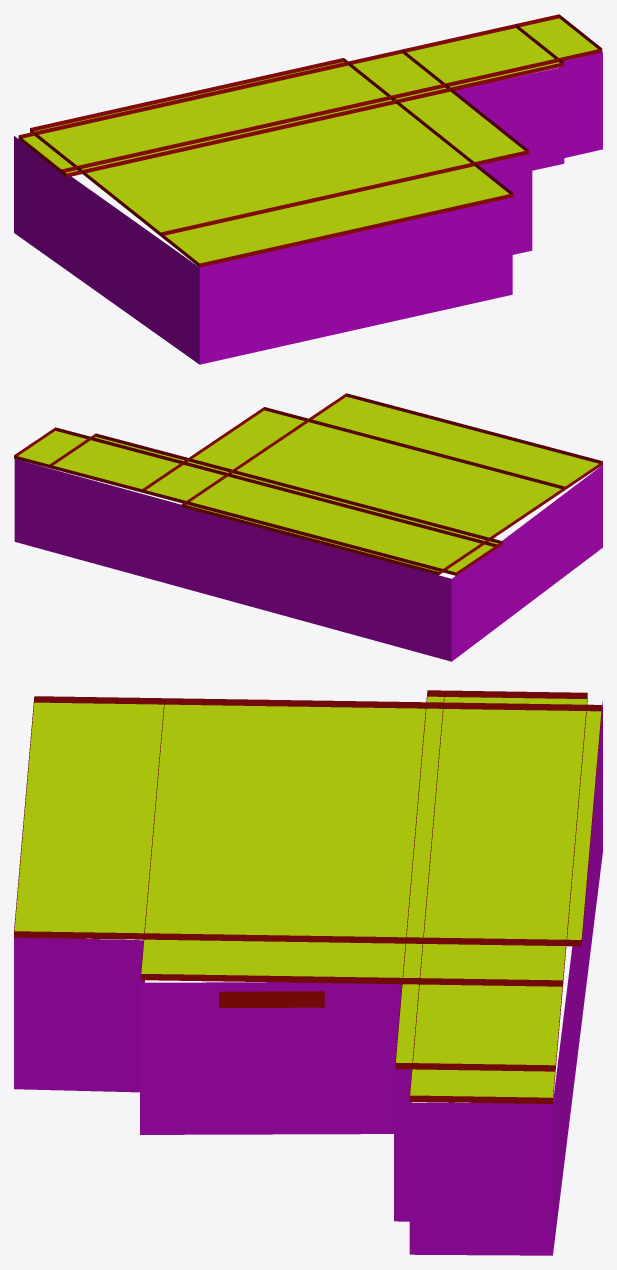
File: niv_64.glb
3 views of the same model, one above another, from view 1: azimuth 30°, elevation 25°; view 2: azimuth 150°, elevation 25°; view 3: azimuth 270°, elevation 25° (orthographic). The views are drawn at different scales.
Parts seen in each view (by area): view 1: niv_64; view 2: niv_64; view 3: niv_64.
Boxes of the visible parts, bbox=[...] form: niv_64: bbox=[14, 14, 602, 364]; niv_64: bbox=[14, 393, 602, 661]; niv_64: bbox=[14, 690, 602, 1255].
Bounding box in the file's own units: 47.88 × 8.69 × 29.25.
